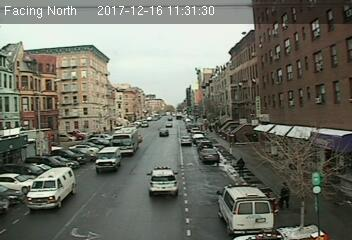bus: (110, 128, 138, 153), (181, 135, 190, 144), (158, 129, 169, 136)
car: (199, 149, 219, 164)
pedestrian: (278, 180, 290, 211), (236, 157, 247, 177)
police: (214, 182, 277, 232), (146, 166, 180, 197)
truck: (24, 167, 75, 207), (95, 147, 119, 170)
